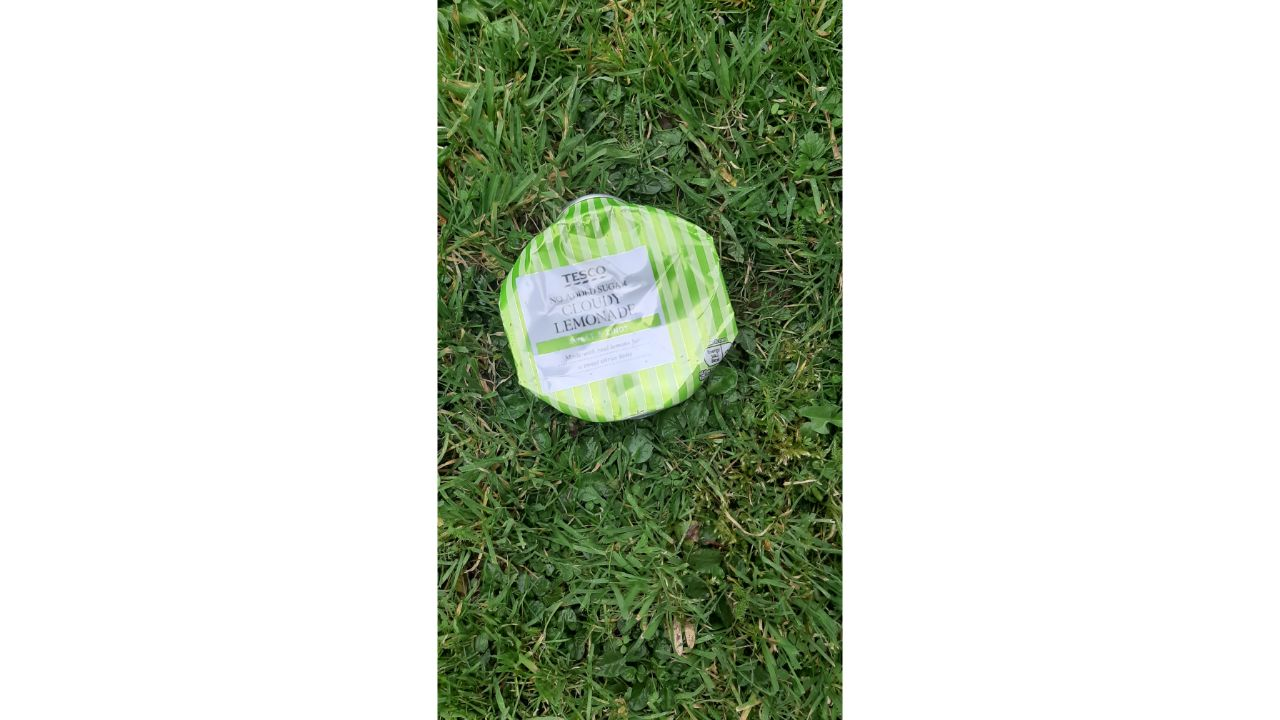Can: (498, 194, 740, 421)
